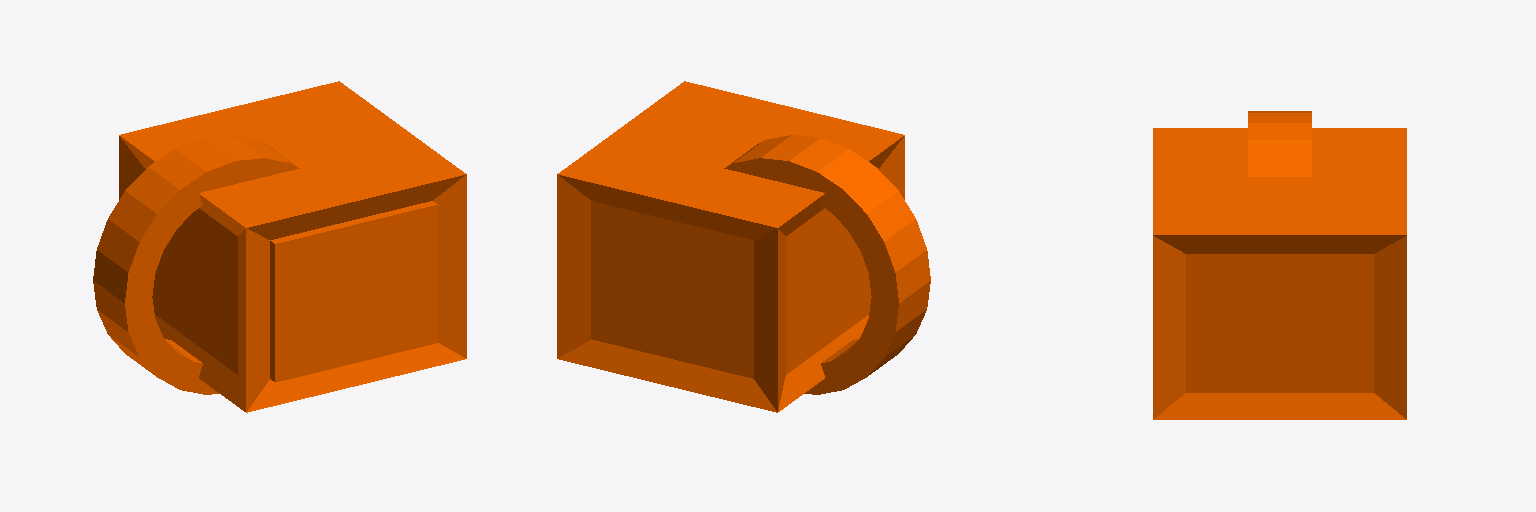
File: Looper.obj
3 views of the same model, side by side, from view 1: azimuth 30°, elevation 25°; view 2: azimuth 150°, elevation 25°; view 3: azimuth 270°, elevation 25° (orthographic).
Parts seen in each view (by area): view 1: Handle1, Circle1; view 2: Handle1, Circle1; view 3: Handle1, Circle1.
Part boxes in pixels (left/top/right/bottom): Handle1: left=119, top=81, right=466, bottom=412; Circle1: left=93, top=135, right=299, bottom=394; Handle1: left=557, top=81, right=904, bottom=412; Circle1: left=724, top=135, right=930, bottom=394; Handle1: left=1153, top=128, right=1406, bottom=419; Circle1: left=1248, top=111, right=1311, bottom=176.
Bounding box in the file's own units: 0.8 × 0.6 × 0.6.